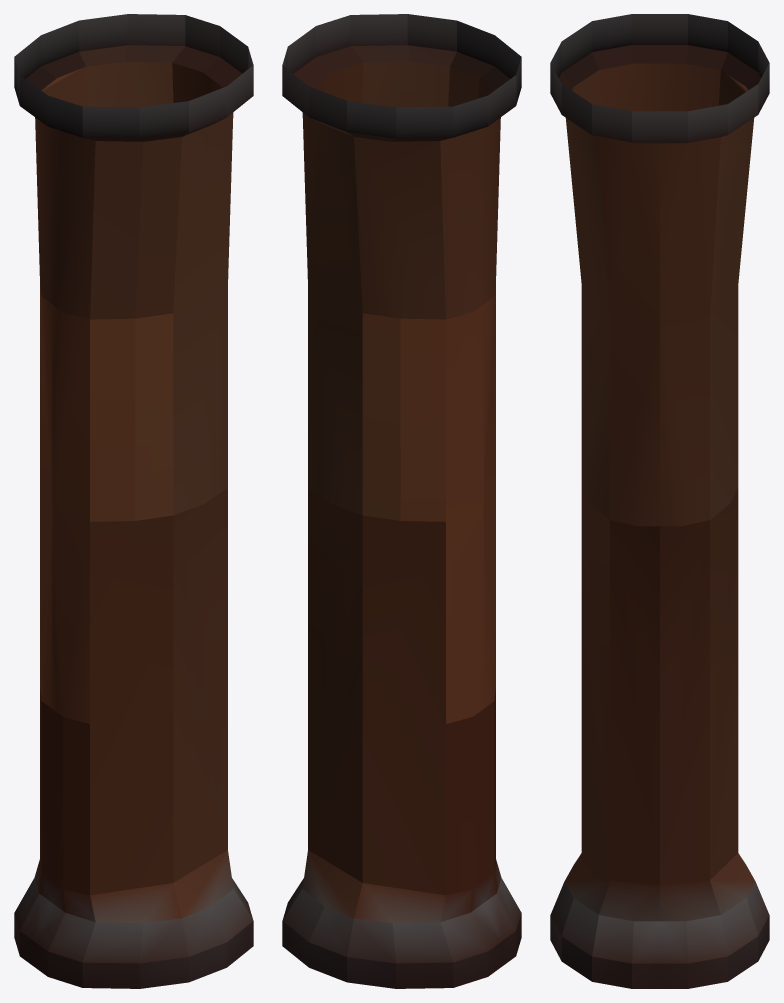
The model's file is Wall_HomeA-PostA-1Story.fbx.
3 views of the same model, side by side, from view 1: azimuth 30°, elevation 25°; view 2: azimuth 150°, elevation 25°; view 3: azimuth 270°, elevation 25° (orthographic).
Parts seen in each view (by area): view 1: Wall_HomeA-PostA-1Story; view 2: Wall_HomeA-PostA-1Story; view 3: Wall_HomeA-PostA-1Story.
Part boxes in pixels (x1,y1,x2,y2): Wall_HomeA-PostA-1Story: (14, 14, 253, 988); Wall_HomeA-PostA-1Story: (282, 14, 521, 988); Wall_HomeA-PostA-1Story: (550, 14, 769, 988).
Size of the model in its own units: 73.54 by 309 by 69.96.
